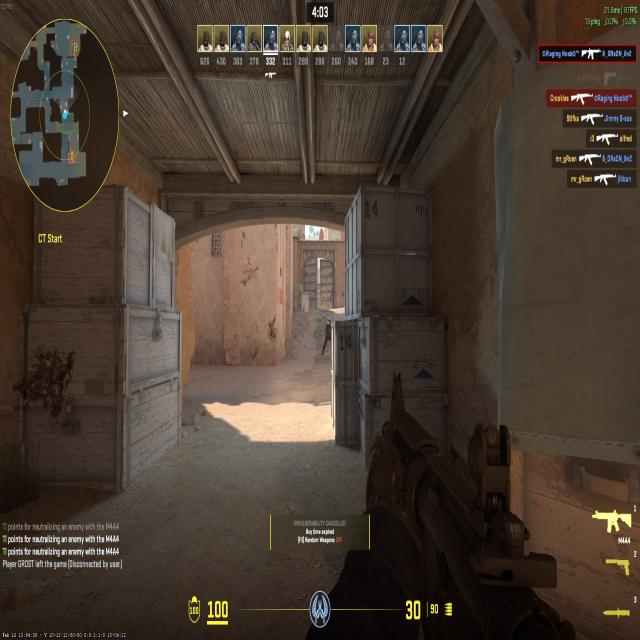player: (323, 314, 334, 356)
